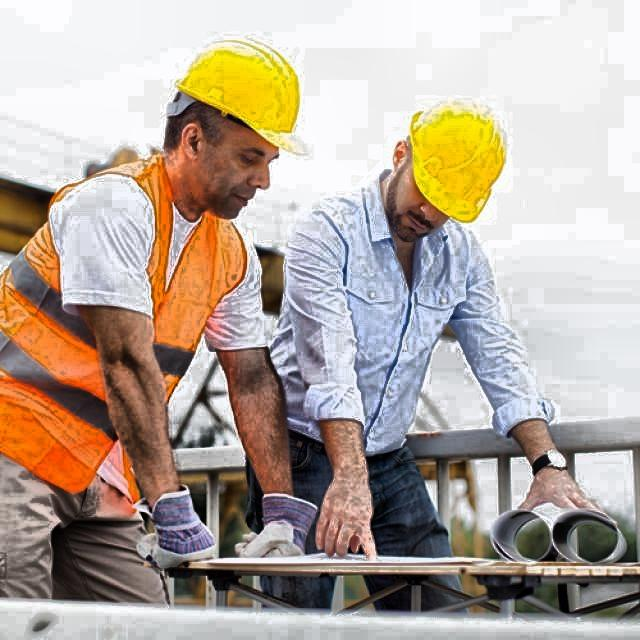person: (10, 29, 305, 604), (297, 106, 529, 598)
